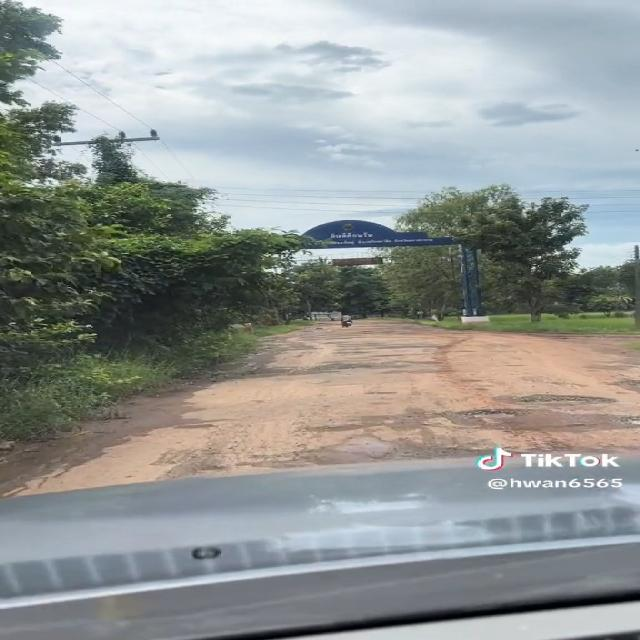Poth-hole: (178, 432, 314, 471)
